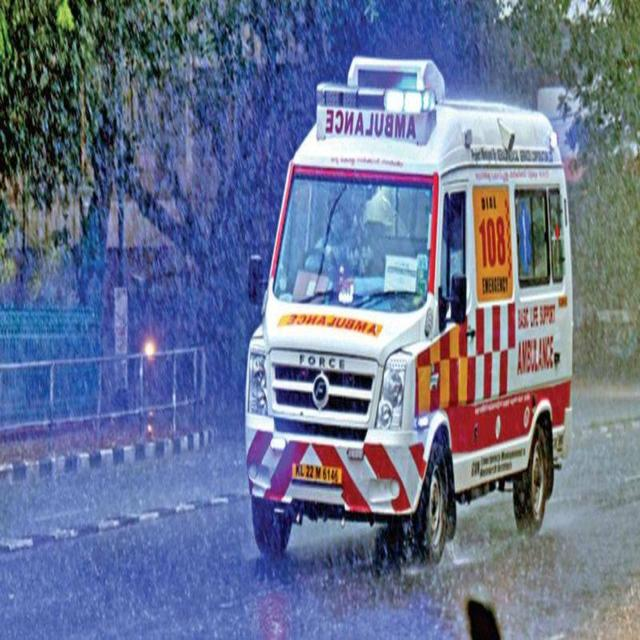emergency: (245, 58, 572, 562)
